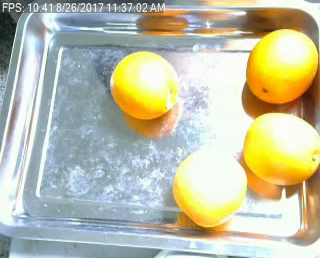Orange: (171, 147, 246, 227), (244, 27, 317, 104), (244, 111, 319, 185), (109, 50, 176, 118)
